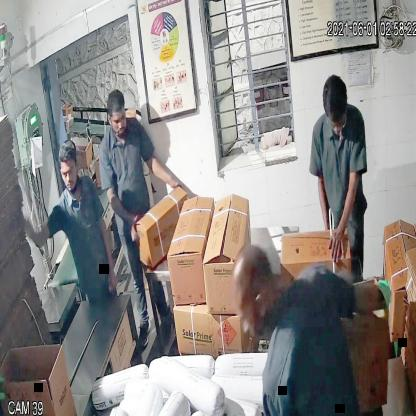no_goggles: (57, 161, 79, 183)
